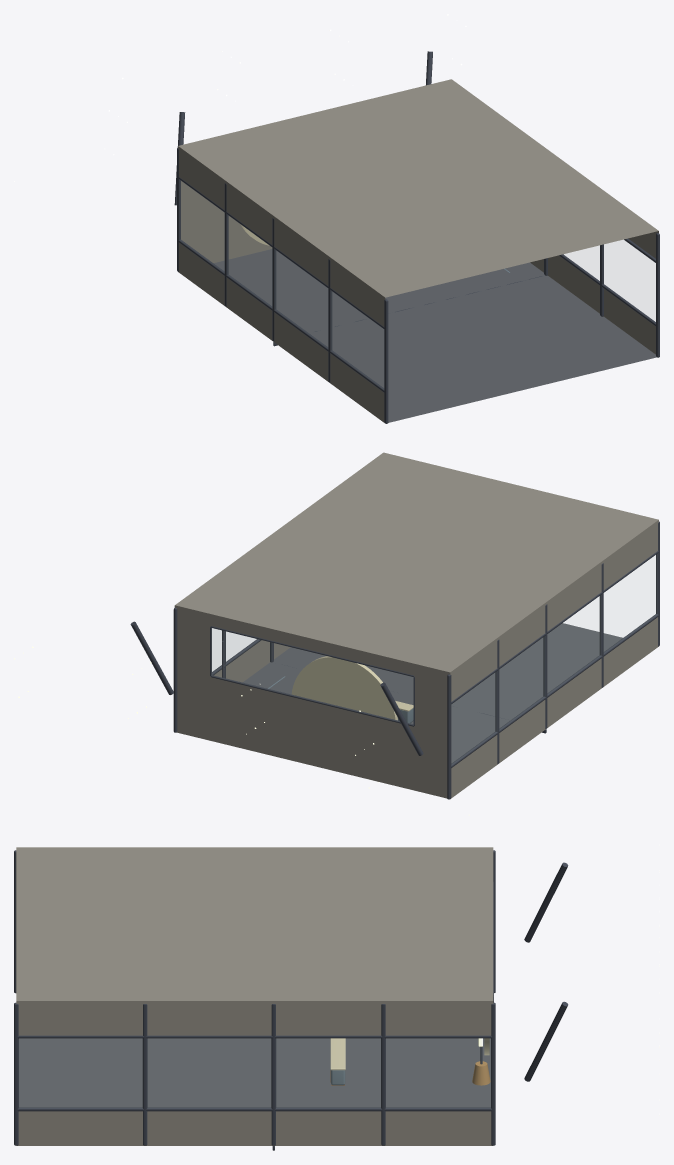
File: garage.glb
3 views of the same model, one above another, from view 1: azimuth 30°, elevation 25°; view 2: azimuth 150°, elevation 25°; view 3: azimuth 270°, elevation 25° (orthographic). The views are drawn at different scales.
Parts seen in each view (by area): view 1: Roof panels - Wall, Floor extension - Floor, Port wall - Wall, Floor - Floor, Port wall - Rib, Rear bulkhead - Wall, Starboard wall - Wall, Starboard wall - Rib; view 2: Roof panels - Wall, Rear bulkhead - Wall, Port wall - Wall, Floor extension - Floor, Port wall - Rib, Signature architecture - Pale, Floor - Floor, Starboard wall - Wall, Rear bulkhead - Rib, Starboard wall - Rib, Outside the glazing - Rib; view 3: Roof panels - Wall, Starboard wall - Wall, Floor extension - Floor, Floor - Floor, Starboard wall - Rib, Outside the glazing - Rib, Port wall - Rib, Counter - Pale.
Part boxes in pixels (<box>): Roof panels - Wall: <box>178,79,658,297</box>; Floor extension - Floor: <box>309,275,656,422</box>; Port wall - Wall: <box>178,146,385,422</box>; Floor - Floor: <box>214,249,544,332</box>; Port wall - Rib: <box>177,148,388,423</box>; Rear bulkhead - Wall: <box>181,181,272,263</box>; Starboard wall - Wall: <box>530,231,658,354</box>; Starboard wall - Rib: <box>544,233,659,357</box>; Roof panels - Wall: <box>175,452,658,672</box>; Rear bulkhead - Wall: <box>174,605,450,798</box>; Port wall - Wall: <box>450,520,658,798</box>; Floor extension - Floor: <box>273,623,622,720</box>; Port wall - Rib: <box>447,521,659,799</box>; Signature architecture - Pale: <box>291,656,397,720</box>; Floor - Floor: <box>243,662,510,763</box>; Starboard wall - Wall: <box>214,640,290,682</box>; Rear bulkhead - Rib: <box>210,626,414,726</box>; Starboard wall - Rib: <box>173,607,273,732</box>; Outside the glazing - Rib: <box>130,621,423,755</box>; Roof panels - Wall: <box>16,847,493,1000</box>; Starboard wall - Wall: <box>16,1001,493,1145</box>; Floor extension - Floor: <box>19,1038,271,1107</box>; Floor - Floor: <box>276,1038,490,1107</box>; Starboard wall - Rib: <box>14,1002,495,1145</box>; Outside the glazing - Rib: <box>524,862,568,1081</box>; Port wall - Rib: <box>14,850,495,993</box>; Counter - Pale: <box>330,1038,345,1070</box>.
Bounding box in the file's own units: 31.75 × 9.65 × 34.14.
